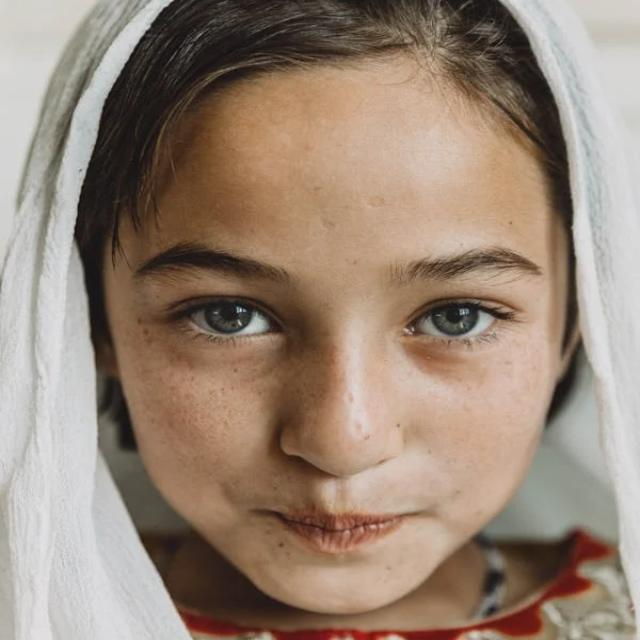no_mask: (73, 35, 584, 621)
